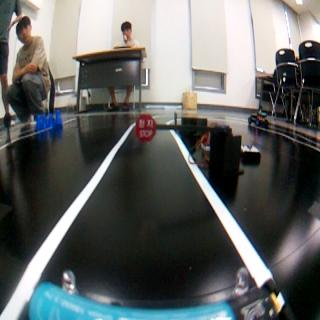stop: (135, 114, 159, 148)
